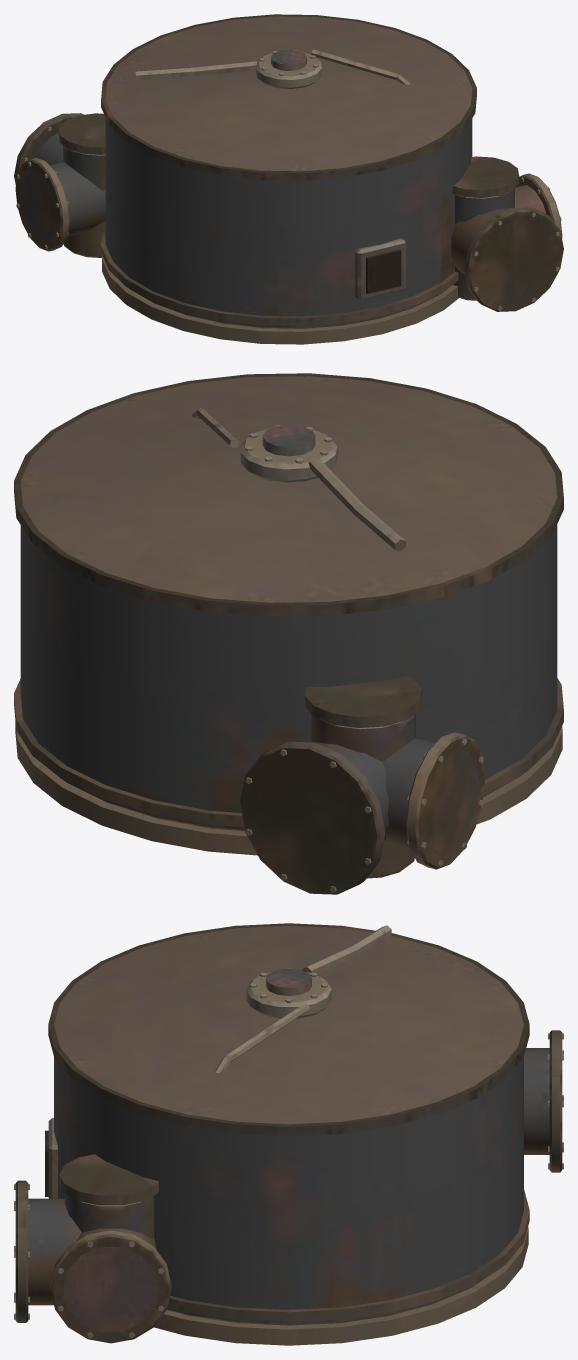
The model's file is storage-tank.glb.
The picture shows the model from 3 angles, top to bottom: view 1: azimuth 30°, elevation 25°; view 2: azimuth 150°, elevation 25°; view 3: azimuth 270°, elevation 25°; orthographic projection. The views are drawn at different scales.
Visible parts, largest first — view 1: body; view 2: body; view 3: body.
Boxes of the visible parts, box(x1,y1,x2,y2) form: body: box(14, 14, 563, 344); body: box(14, 373, 563, 894); body: box(14, 923, 563, 1345).
Bounding box in the file's own units: 3.02 × 1.65 × 3.09.
Materials: 1 (1 with a texture image).
